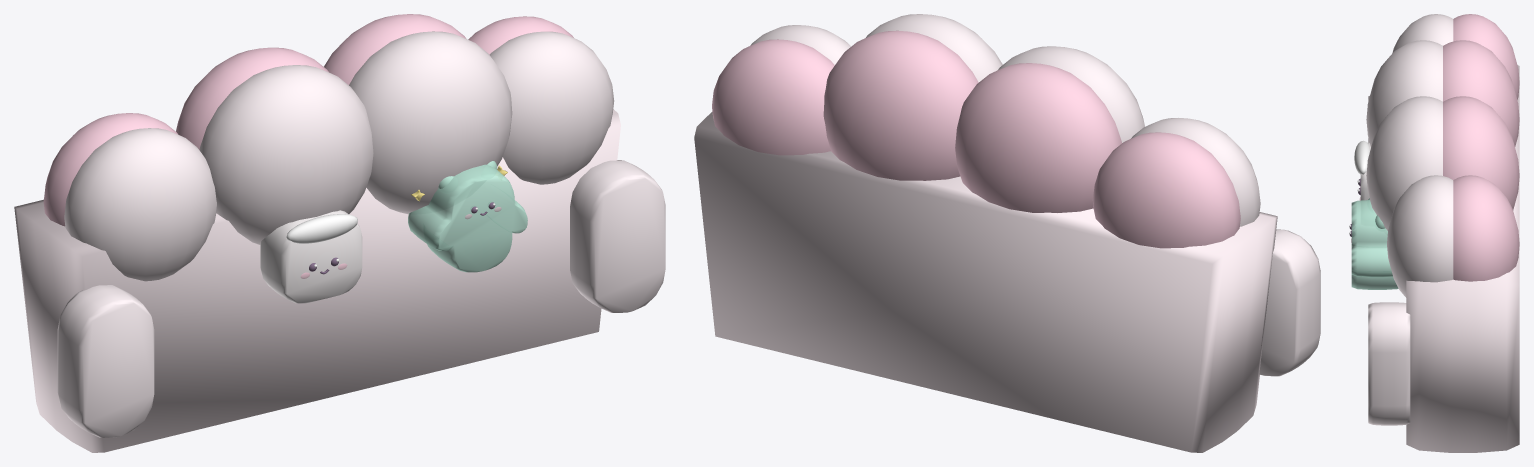
Rendered from decor_1_candy.glb.
3 views of the same model, side by side, from view 1: azimuth 30°, elevation 25°; view 2: azimuth 150°, elevation 25°; view 3: azimuth 270°, elevation 25° (orthographic). The views are drawn at different scales.
Parts seen in each view (by area): view 1: decor_1_candy; view 2: decor_1_candy; view 3: decor_1_candy.
Boxes of the visible parts, bbox=[...] form: decor_1_candy: bbox=[14, 14, 665, 452]; decor_1_candy: bbox=[694, 14, 1320, 452]; decor_1_candy: bbox=[1351, 14, 1519, 452].
Bounding box in the file's own units: 21.38 × 11.65 × 6.43.
